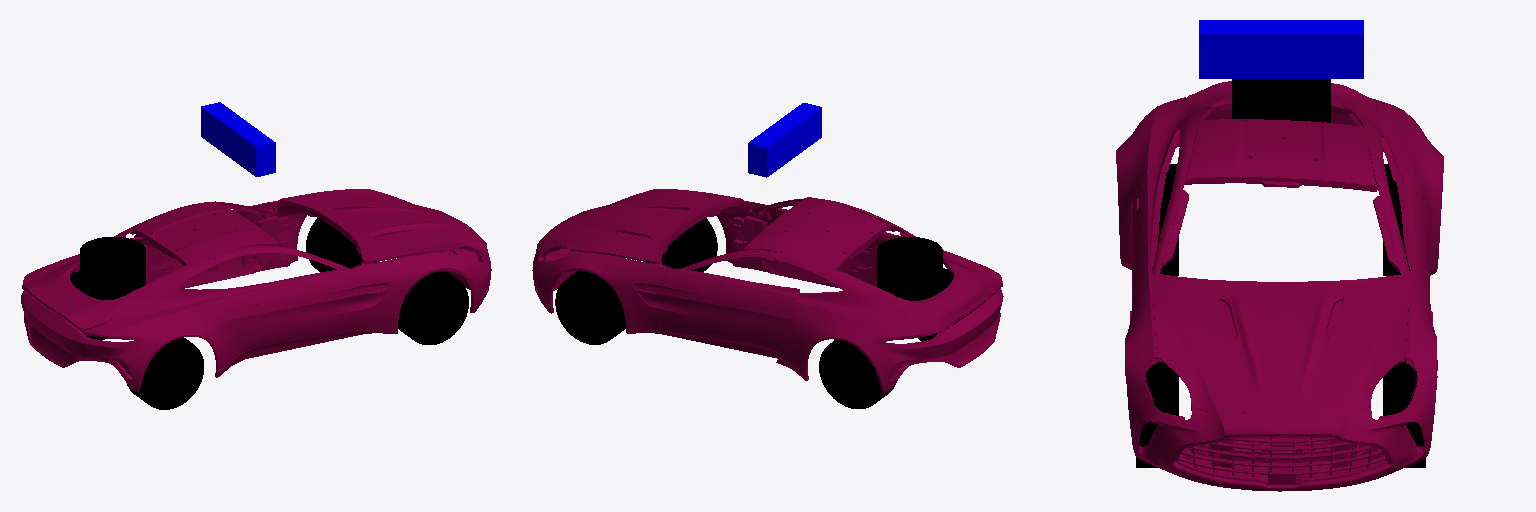
robot.urdf — Carros:
<?xml version="1.0"?>
<robot name="Carros">

  <material name="magenta_custom"><color rgba="0.537 0.039 0.294 1.0"/></material>
  <material name="black"><color rgba="0 0 0 1"/></material>
  <material name="silver"><color rgba="0.75 0.75 0.75 1"/></material>
  <material name="blue"><color rgba="0 0 1 1"/></material>

  <link name="base_link">
    <visual>
      <origin xyz="0.19 0.0 -0.015" rpy="0 0 0"/>
      <geometry>
        <mesh filename="package://carro_simulacion/meshes/chasis-Assembly2.stl" scale="0.001 0.001 0.001"/>
      </geometry>
      <material name="magenta_custom"/>
    </visual>
    <collision>
      <origin xyz="0.19 0.0 -0.012" rpy="0 0 0"/>
      <geometry>
        <mesh filename="package://carro_simulacion/meshes/chasis-Assembly2.stl" scale="0.001 0.001 0.001"/>
      </geometry>
    </collision>
    <inertial>
      <mass value="2.5"/> 
      <inertia ixx="0.01" ixy="0" ixz="0" iyy="0.01" iyz="0" izz="0.01"/>
    </inertial>
  </link>

  <link name="front_left_steering_link">
    <inertial><mass value="0.1"/><inertia ixx="0.001" ixy="0" ixz="0" iyy="0.001" iyz="0" izz="0.001"/></inertial>
  </link>
  <joint name="front_left_steering_joint" type="revolute">
    <parent link="base_link"/><child link="front_left_steering_link"/>
    <axis xyz="0 0 1"/><limit lower="-0.6" upper="0.6" effort="100" velocity="1.0"/>
    <origin xyz="0.135 0.075 0" rpy="0 0 0"/>
  </joint>

  <link name="front_left_wheel">
    <visual><origin xyz="0 0 0" rpy="1.5708 0 0"/><geometry><cylinder length="0.026" radius="0.034"/></geometry><material name="black"/></visual>
    <collision><origin xyz="0 0 0" rpy="1.5708 0 0"/><geometry><cylinder length="0.026" radius="0.034"/></geometry></collision>
    <inertial><mass value="0.2"/><inertia ixx="0.001" ixy="0" ixz="0" iyy="0.001" iyz="0" izz="0.001"/></inertial>
  </link>
  <joint name="front_left_wheel_joint" type="continuous">
    <parent link="front_left_steering_link"/><child link="front_left_wheel"/>
    <axis xyz="0 1 0"/><origin xyz="0 0 0" rpy="0 0 0"/>
  </joint>

  <link name="front_right_steering_link">
    <inertial><mass value="0.1"/><inertia ixx="0.001" ixy="0" ixz="0" iyy="0.001" iyz="0" izz="0.001"/></inertial>
  </link>
  <joint name="front_right_steering_joint" type="revolute">
    <parent link="base_link"/><child link="front_right_steering_link"/>
    <axis xyz="0 0 1"/><limit lower="-0.6" upper="0.6" effort="100" velocity="1.0"/>
    <origin xyz="0.135 -0.075 0" rpy="0 0 0"/>
  </joint>

  <link name="front_right_wheel">
    <visual><origin xyz="0 0 0" rpy="1.5708 0 0"/><geometry><cylinder length="0.026" radius="0.034"/></geometry><material name="black"/></visual>
    <collision><origin xyz="0 0 0" rpy="1.5708 0 0"/><geometry><cylinder length="0.026" radius="0.034"/></geometry></collision>
    <inertial><mass value="0.2"/><inertia ixx="0.001" ixy="0" ixz="0" iyy="0.001" iyz="0" izz="0.001"/></inertial>
  </link>
  <joint name="front_right_wheel_joint" type="continuous">
    <parent link="front_right_steering_link"/><child link="front_right_wheel"/>
    <axis xyz="0 1 0"/><origin xyz="0 0 0" rpy="0 0 0"/>
  </joint>

  <link name="rear_left_wheel">
    <visual><origin xyz="0 0 0" rpy="1.5708 0 0"/><geometry><cylinder length="0.026" radius="0.034"/></geometry><material name="black"/></visual>
    <collision><origin xyz="0 0 0" rpy="1.5708 0 0"/><geometry><cylinder length="0.026" radius="0.034"/></geometry></collision>
    <inertial><mass value="0.2"/><inertia ixx="0.001" ixy="0" ixz="0" iyy="0.001" iyz="0" izz="0.001"/></inertial>
  </link>
  <joint name="rear_left_joint" type="continuous">
    <parent link="base_link"/><child link="rear_left_wheel"/>
    <axis xyz="0 1 0"/><origin xyz="-0.14 0.075 0" rpy="0 0 0"/>
  </joint>

  <link name="rear_right_wheel">
    <visual><origin xyz="0 0 0" rpy="1.5708 0 0"/><geometry><cylinder length="0.026" radius="0.034"/></geometry><material name="black"/></visual>
    <collision><origin xyz="0 0 0" rpy="1.5708 0 0"/><geometry><cylinder length="0.026" radius="0.034"/></geometry></collision>
    <inertial><mass value="0.2"/><inertia ixx="0.001" ixy="0" ixz="0" iyy="0.001" iyz="0" izz="0.001"/></inertial>
  </link>
  <joint name="rear_right_joint" type="continuous">
    <parent link="base_link"/><child link="rear_right_wheel"/>
    <axis xyz="0 1 0"/><origin xyz="-0.14 -0.075 0" rpy="0 0 0"/>
  </joint>

  <link name="lidar_link">
    <visual>
      <geometry><cylinder radius="0.03" length="0.04"/></geometry>
      <material name="black"/>
    </visual>
    <inertial>
      <mass value="0.1"/>
      <inertia ixx="0.001" ixy="0" ixz="0" iyy="0.001" iyz="0" izz="0.001"/>
    </inertial>
  </link>

  <joint name="lidar_joint" type="fixed">
    <parent link="base_link"/>
    <child link="lidar_link"/>
    <origin xyz="-0.15 0 0.07" rpy="0 0 1.5708"/> 
  </joint>

  <link name="camera_link">
    <visual><geometry><box size="0.02 0.1 0.03"/></geometry><material name="blue"/></visual>
  </link>
  <joint name="camera_joint" type="fixed">
    <parent link="base_link"/><child link="camera_link"/>
    <origin xyz="-0.02 0 0.17" rpy="0 0 0"/>
  </joint>

  <link name="camera_link_optical"></link>
  <joint name="camera_optical_joint" type="fixed">
    <parent link="camera_link"/><child link="camera_link_optical"/>
    <origin xyz="0 0 0" rpy="-1.5708 0 -1.5708"/>
  </joint>

  <gazebo>
    <plugin filename="gz-sim-ackermann-steering-system" name="gz::sim::systems::AckermannSteering">
      <left_steering_joint>front_left_steering_joint</left_steering_joint>
      <right_steering_joint>front_right_steering_joint</right_steering_joint>
      <left_joint>rear_left_joint</left_joint>
      <right_joint>rear_right_joint</right_joint>
      <wheel_separation>0.15</wheel_separation>
      <wheel_radius>0.034</wheel_radius>
      <topic>/model/carro/cmd_vel</topic>
      <odom_topic>/odom</odom_topic>
      <frame_id>odom</frame_id>
      <child_frame_id>base_link</child_frame_id>
    </plugin>
  </gazebo>

  <gazebo reference="base_link"> 
    <material>
      <ambient>0.537 0.039 0.294 1.0</ambient>
      <diffuse>0.537 0.039 0.294 1.0</diffuse>
      <specular>0.7 0.7 0.7 1.0</specular>
      <pbr><metal><metalness>0.6</metalness><roughness>0.3</roughness></metal></pbr>
    </material>
  </gazebo>

  <gazebo reference="front_left_wheel"><mu1>0.9</mu1><mu2>0.9</mu2><material>Gazebo/Black</material></gazebo>
  <gazebo reference="front_right_wheel"><mu1>0.9</mu1><mu2>0.9</mu2><material>Gazebo/Black</material></gazebo>
  <gazebo reference="rear_left_wheel"><mu1>0.9</mu1><mu2>0.9</mu2><material>Gazebo/Black</material></gazebo>
  <gazebo reference="rear_right_wheel"><mu1>0.9</mu1><mu2>0.9</mu2><material>Gazebo/Black</material></gazebo>

  <gazebo reference="lidar_link">
    <sensor name="gpu_lidar" type="gpu_lidar">
      <pose>0 0 0 0 0 0</pose>
      <always_on>1</always_on>
      <visualize>true</visualize>
      <update_rate>10</update_rate>
      <lidar>
        <scan>
          <horizontal>
            <samples>450</samples>
            <resolution>1</resolution>
            <min_angle>0.0</min_angle>
            <max_angle>6.28318</max_angle>
          </horizontal>
        </scan>
        <range>
          <min>0.02</min>
          <max>12.0</max>
          <resolution>0.01</resolution>
        </range>
        <noise>
          <type>gaussian</type>
          <mean>0.0</mean>
          <stddev>0.015</stddev>
        </noise>
      </lidar>
      <topic>/model/carro/scan</topic> 
      <gz_frame_id>lidar_link</gz_frame_id>
    </sensor>
  </gazebo>

  <gazebo reference="camera_link">
    <sensor name="ascamera_hp60c" type="rgbd">
      <always_on>1</always_on>
      <update_rate>20</update_rate> 
      <visualize>true</visualize>
      <topic>camera</topic>
      <camera>
        <horizontal_fov>1.288</horizontal_fov> 
        <image>
          <width>640</width>
          <height>480</height>
          <format>R8G8B8</format>
        </image>
        <clip>
          <near>0.2</near>
          <far>4.0</far>
        </clip>
      </camera>
      <gz_frame_id>camera_link_optical</gz_frame_id>
    </sensor>
  </gazebo>

  <gazebo> 
    <plugin filename="libignition-gazebo-odometry-publisher-system.so" name="ignition::gazebo::systems::OdometryPublisher">
      <odom_frame>odom</odom_frame>
      <robot_base_frame>base_link</robot_base_frame> 
      <odom_topic>/model/carro/odometry</odom_topic>
      <odom_publish_frequency>50</odom_publish_frequency>
      <dimensions>3</dimensions>
    </plugin>
  </gazebo>

</robot>

--- What the picture shows (computed from the rendered views, not written in the file) ---
The picture shows the robot from 3 angles, left to right: view 1: azimuth 30°, elevation 25°; view 2: azimuth 150°, elevation 25°; view 3: azimuth 270°, elevation 25°; orthographic projection.
Robot: Carros — 10 links, 9 joints (2 revolute, 4 continuous, 3 fixed); root link base_link; default pose: all joints at 0.
Links seen in each view (by area): view 1: base_link, front_right_wheel, lidar_link, rear_right_wheel, camera_link, front_left_wheel; view 2: base_link, front_left_wheel, lidar_link, camera_link, rear_left_wheel, front_right_wheel; view 3: base_link, camera_link, lidar_link, front_left_wheel, front_right_wheel, rear_right_wheel, rear_left_wheel.
Boxes of the visible links, x1,y1,x2,y2 form: base_link: (21,189,491,391); front_right_wheel: (398,271,468,344); lidar_link: (80,237,145,299); rear_right_wheel: (127,337,203,409); camera_link: (201,102,275,176); front_left_wheel: (306,218,376,271); base_link: (532,189,1003,393); front_left_wheel: (555,271,625,344); lidar_link: (877,237,942,300); camera_link: (748,103,821,177); rear_left_wheel: (819,340,896,408); front_right_wheel: (646,218,717,271); base_link: (1116,81,1443,491); camera_link: (1199,20,1363,78); lidar_link: (1232,79,1330,122); front_left_wheel: (1383,357,1425,467); front_right_wheel: (1136,362,1178,467); rear_right_wheel: (1158,164,1178,275); rear_left_wheel: (1383,164,1409,275).
Bounding box of the posed robot: 0.445 × 0.1991 × 0.219 m (x, y, z).
1 mesh visuals loaded from 1 distinct referenced files (1 binary STL).
